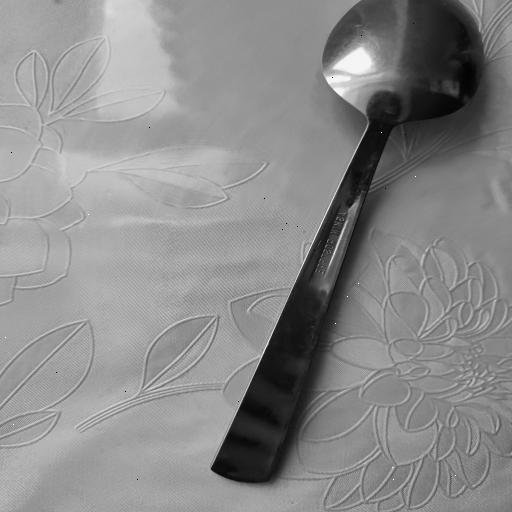spoon: (215, 0, 481, 486)
